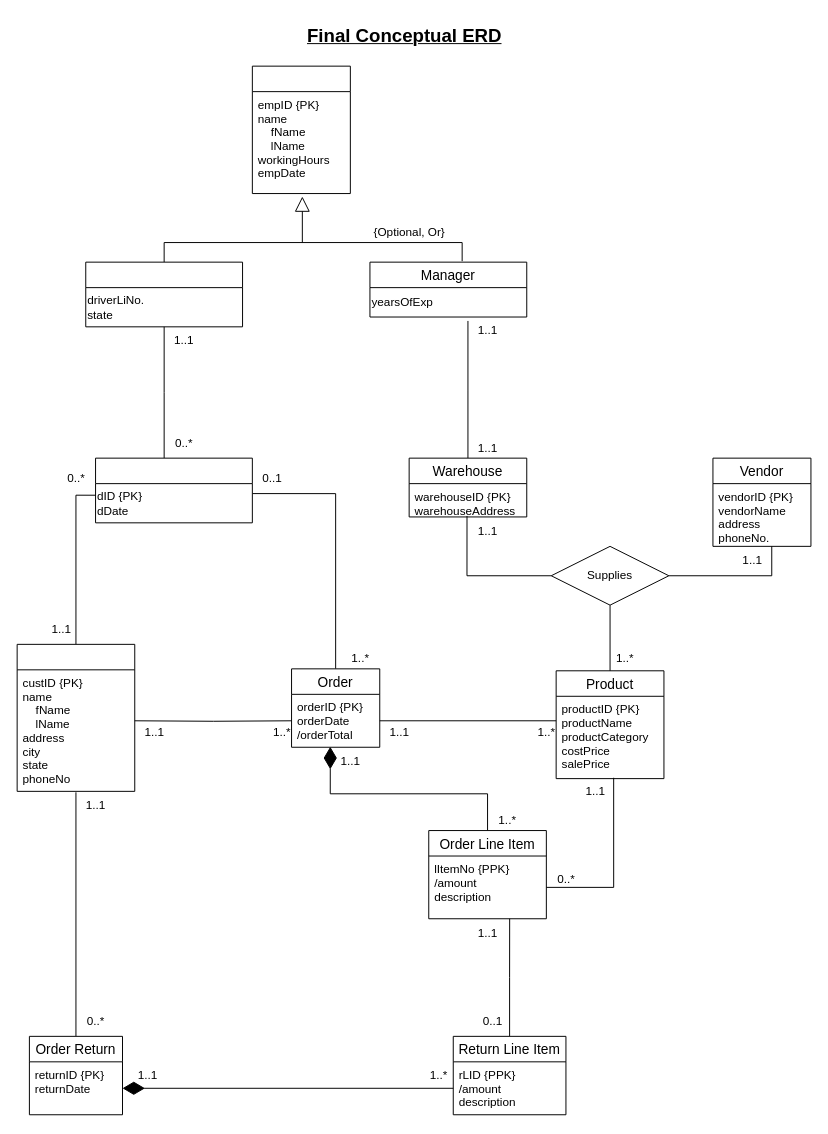
Image size: 828x1134. Some labels were removed from this diagram. The shapes that lost their labels are listed below. From the top down, each one's box as (x1, y1, x2, y2) in pixels, then its label:
(251, 65, 350, 194): Employee
(85, 261, 243, 327): Delivery Driver
(95, 457, 252, 523): Delivery
(16, 643, 135, 791): Customer
